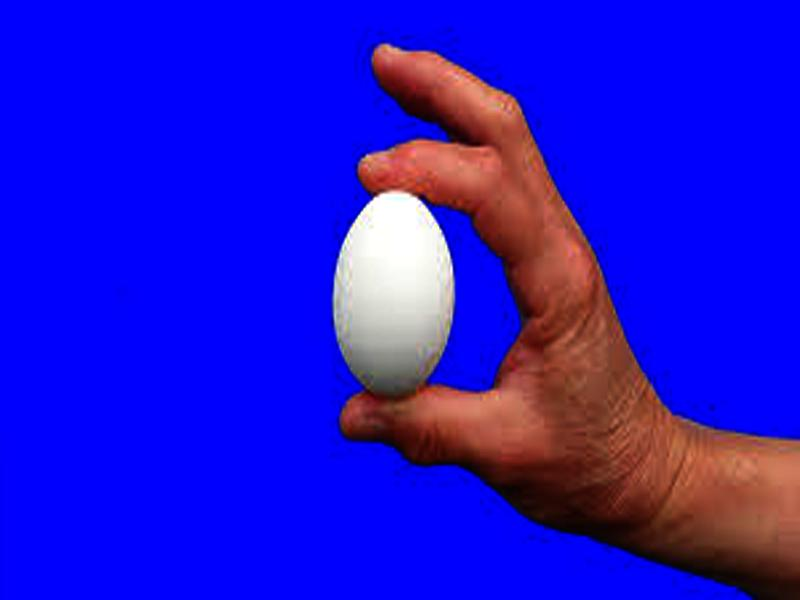Eggs: (332, 186, 455, 396)
